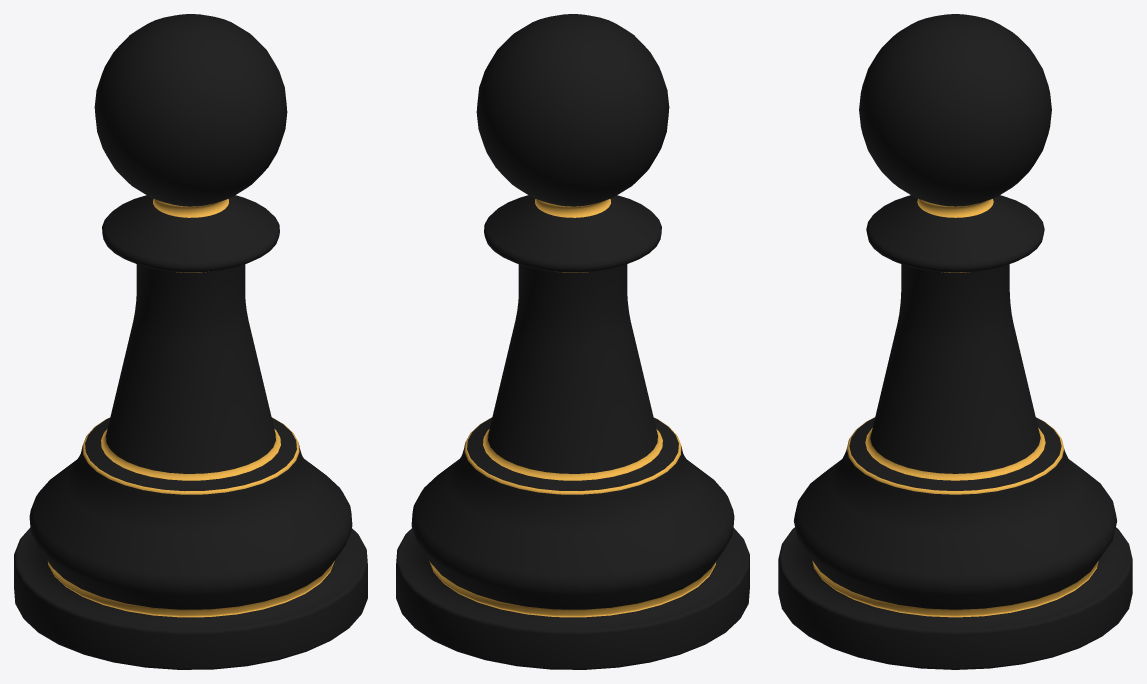
Rendered from pawn.glb.
The picture shows the model from 3 angles, left to right: view 1: azimuth 30°, elevation 25°; view 2: azimuth 150°, elevation 25°; view 3: azimuth 270°, elevation 25°; orthographic projection.
Parts seen in each view (by area): view 1: Circle.014; view 2: Circle.014; view 3: Circle.014.
Part boxes in pixels (x1,y1,x2,y2): Circle.014: (14, 14, 367, 669); Circle.014: (396, 14, 749, 669); Circle.014: (778, 14, 1132, 669).
Bounding box in the file's own units: 27.79 × 49.5 × 27.79.
